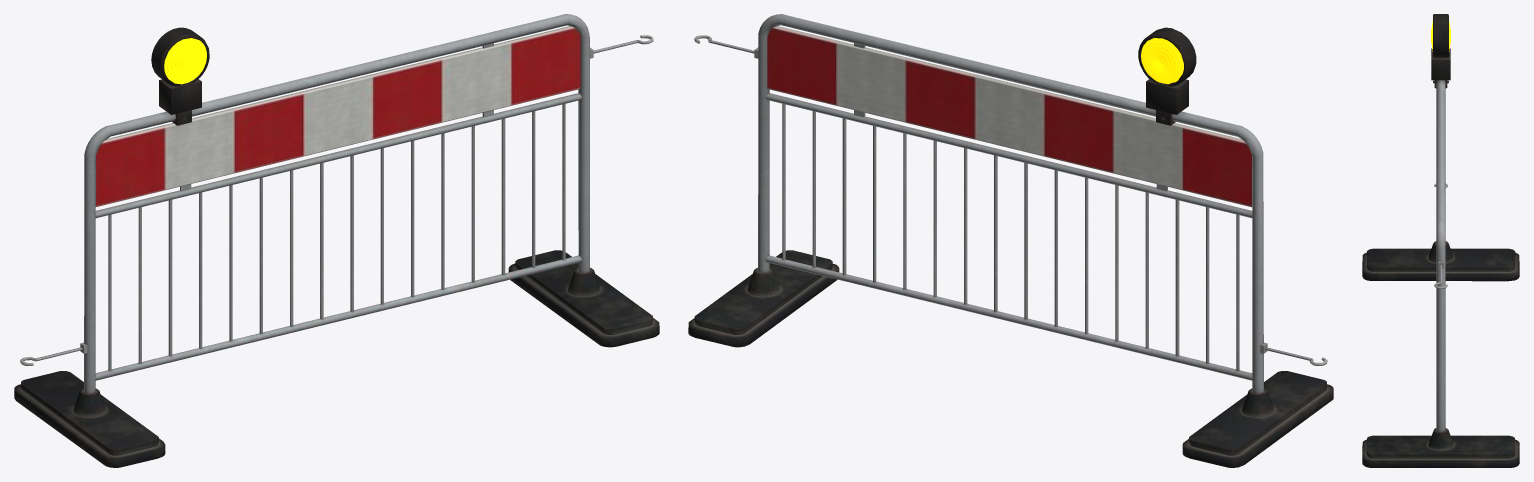
The model's file is construction-barrier.glb.
3 renders of one model, left to right at view 1: azimuth 30°, elevation 25°; view 2: azimuth 150°, elevation 25°; view 3: azimuth 270°, elevation 25°, orthographic. The views are drawn at different scales.
Parts seen in each view (by area): view 1: construction-barrier_body, construction-barrier_lamp_lens; view 2: construction-barrier_body, construction-barrier_lamp_lens; view 3: construction-barrier_body.
Boxes of the visible parts, <box> form: construction-barrier_body: <box>14,14,659,467</box>; construction-barrier_lamp_lens: <box>164,38,206,84</box>; construction-barrier_body: <box>688,14,1333,467</box>; construction-barrier_lamp_lens: <box>1141,38,1183,84</box>; construction-barrier_body: <box>1362,14,1519,467</box>.
Bounding box in the file's own units: 2.5 × 1.41 × 0.6975.
2 materials, 1 textured.
